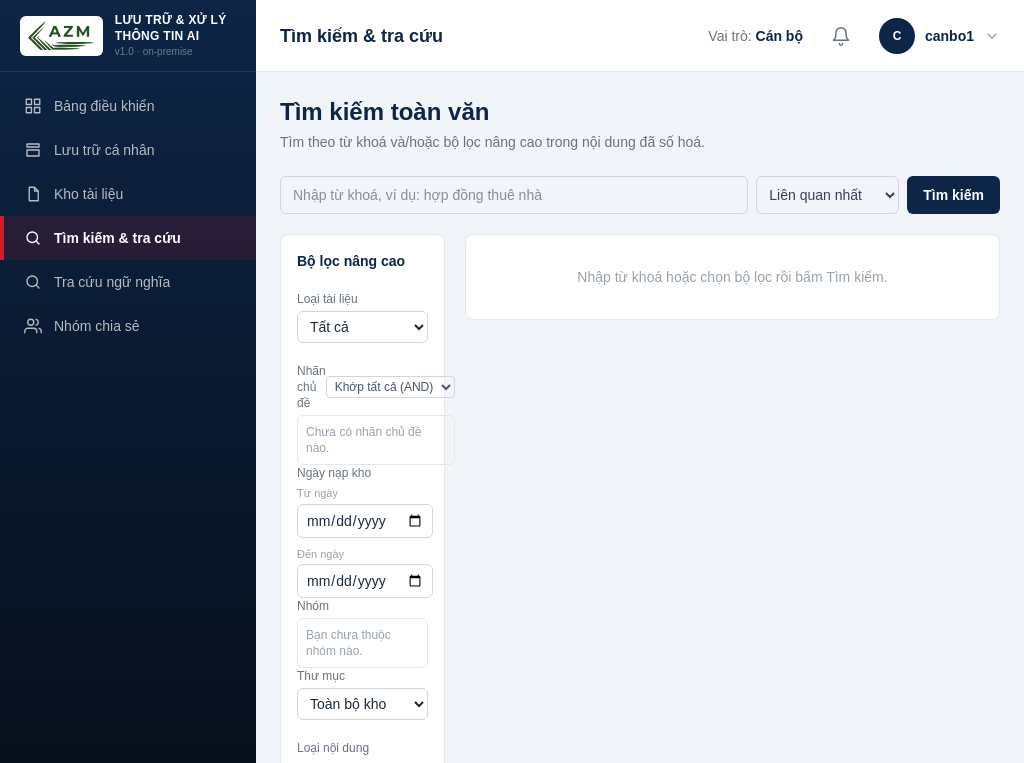
Test: SearchPage › shows the degraded-mode banner when the response signals opensearch_unavailable
This screenshot has width=1024, height=763.
In the field with placeholder "Nhập từ khoá, ví dụ: hợp đồng thuê nhà": (514, 195) [280,176,748,214], type "abc"
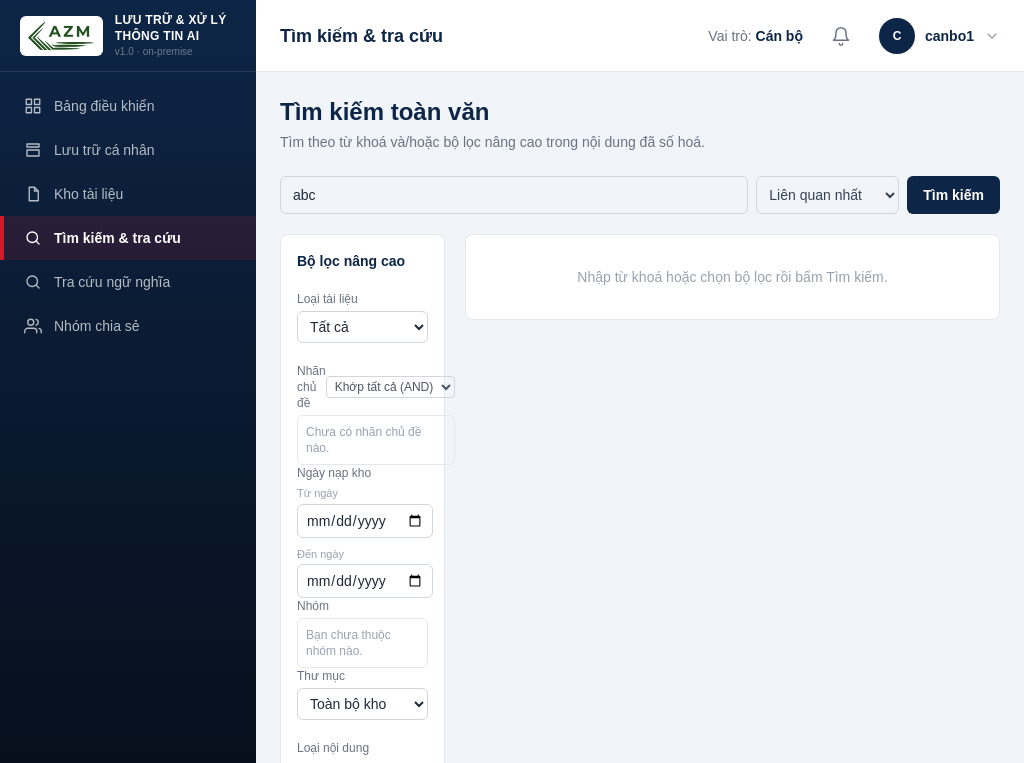
Click the button "Tìm kiếm": (954, 195) [907,176,1000,214]
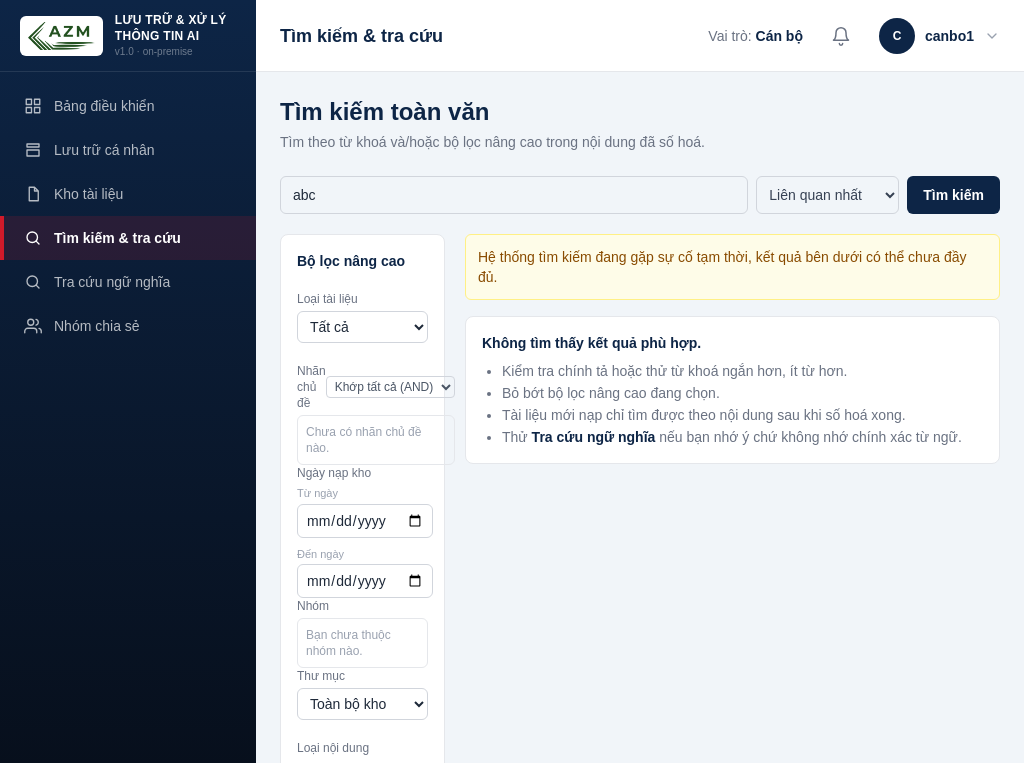
Now the text "Hệ thống tìm kiếm đang gặp sự cố tạm thời" is shown, box [478,249,966,285]
